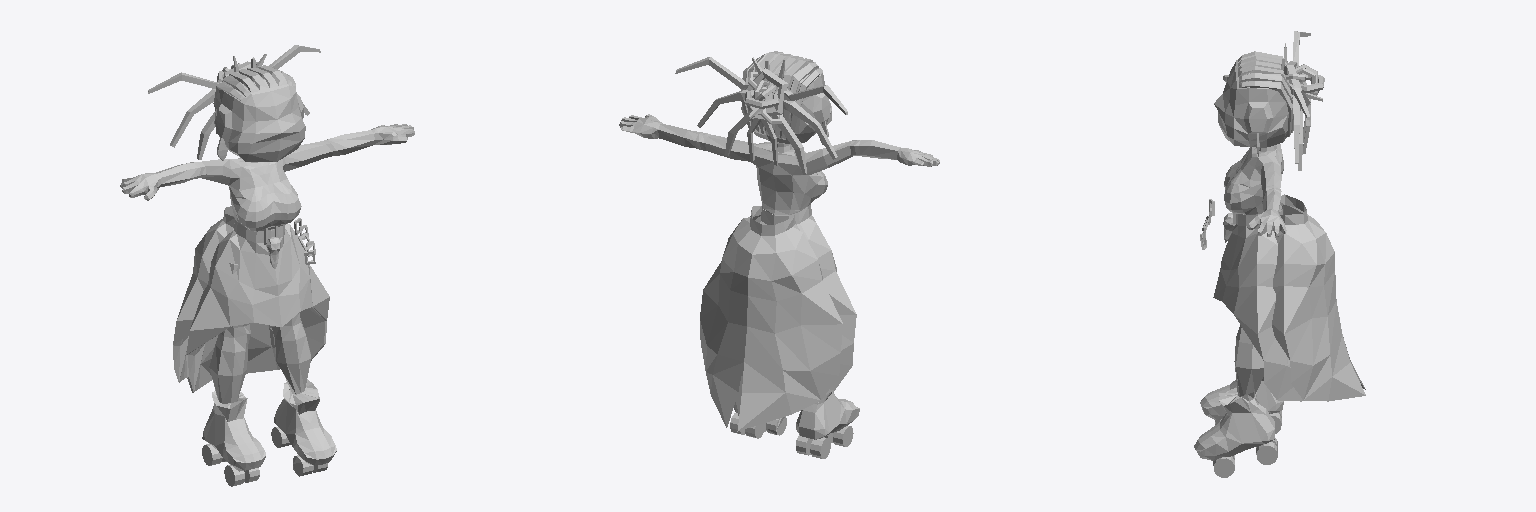
File: WitchFINAL2_000009.obj
3 renders of one model, left to right at view 1: azimuth 30°, elevation 25°; view 2: azimuth 150°, elevation 25°; view 3: azimuth 270°, elevation 25°, orthographic.
Visible parts, largest first — view 1: Body_Cylinder, Torso(Boobies)_Cylinder.002, LegR_Cube.004, LegL_Cube.003, Head_Cylinder.004, ZBody_Cylinder.001, Hair_Cylinder.006, Tail.001_Torus.001; view 2: ZBody_Cylinder.001, Torso(Boobies)_Cylinder.002, Body_Cylinder, LegR_Cube.004, Hair_Cylinder.006, Tail.001_Torus.001, Tail_Torus, Tail.002_Torus.002, Head_Cylinder.004, LegL_Cube.003; view 3: ZBody_Cylinder.001, Body_Cylinder, LegL_Cube.003, Torso(Boobies)_Cylinder.002, Head_Cylinder.004, Hair_Cylinder.006, LegR_Cube.004, Tail_Torus, Tail.002_Torus.002.
Part boxes in pixels (left/top/right/bottom): Body_Cylinder: left=186, top=220, right=329, bottom=392; Torso(Boobies)_Cylinder.002: left=120, top=124, right=414, bottom=231; LegR_Cube.004: left=202, top=263, right=265, bottom=486; LegL_Cube.003: left=271, top=312, right=336, bottom=476; Head_Cylinder.004: left=214, top=70, right=305, bottom=161; ZBody_Cylinder.001: left=173, top=206, right=234, bottom=382; Hair_Cylinder.006: left=213, top=65, right=295, bottom=110; Tail.001_Torus.001: left=148, top=72, right=222, bottom=159; ZBody_Cylinder.001: left=700, top=206, right=842, bottom=431; Torso(Boobies)_Cylinder.002: left=619, top=114, right=939, bottom=214; Body_Cylinder: left=734, top=205, right=856, bottom=415; LegR_Cube.004: left=796, top=391, right=859, bottom=458; Hair_Cylinder.006: left=741, top=51, right=822, bottom=139; Tail.001_Torus.001: left=760, top=85, right=847, bottom=174; Tail_Torus: left=745, top=57, right=787, bottom=123; Tail.002_Torus.002: left=675, top=57, right=760, bottom=160; Head_Cylinder.004: left=741, top=60, right=831, bottom=144; LegL_Cube.003: left=730, top=407, right=786, bottom=438; ZBody_Cylinder.001: left=1272, top=194, right=1365, bottom=401; Body_Cylinder: left=1213, top=209, right=1304, bottom=401; LegL_Cube.003: left=1194, top=325, right=1277, bottom=477; Torso(Boobies)_Cylinder.002: left=1223, top=75, right=1286, bottom=236; Head_Cylinder.004: left=1214, top=60, right=1290, bottom=147; Hair_Cylinder.006: left=1238, top=51, right=1300, bottom=136; LegR_Cube.004: left=1200, top=377, right=1283, bottom=433; Tail_Torus: left=1281, top=43, right=1324, bottom=106; Tail.002_Torus.002: left=1290, top=84, right=1310, bottom=170.
Bounding box in the file's own units: 13.15 × 16.8 × 6.49.